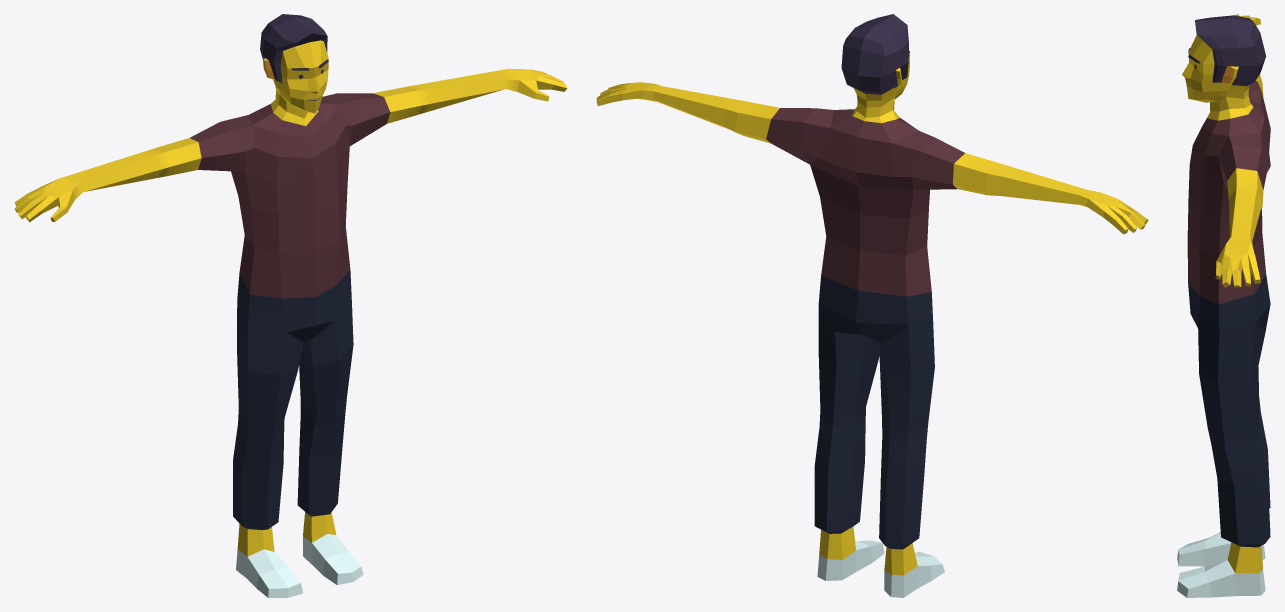
Rendered from man-casual-e7731e31.glb.
3 views of the same model, side by side, from view 1: azimuth 30°, elevation 25°; view 2: azimuth 150°, elevation 25°; view 3: azimuth 270°, elevation 25° (orthographic).
Parts seen in each view (by area): view 1: man_casual; view 2: man_casual; view 3: man_casual.
Boxes of the visible parts, bbox=[...] form: man_casual: bbox=[14, 14, 567, 597]; man_casual: bbox=[596, 14, 1148, 597]; man_casual: bbox=[1177, 14, 1270, 597].
Size of the model in its own units: 1.86 by 1.8 by 0.2755.
1 material, 1 textured.
